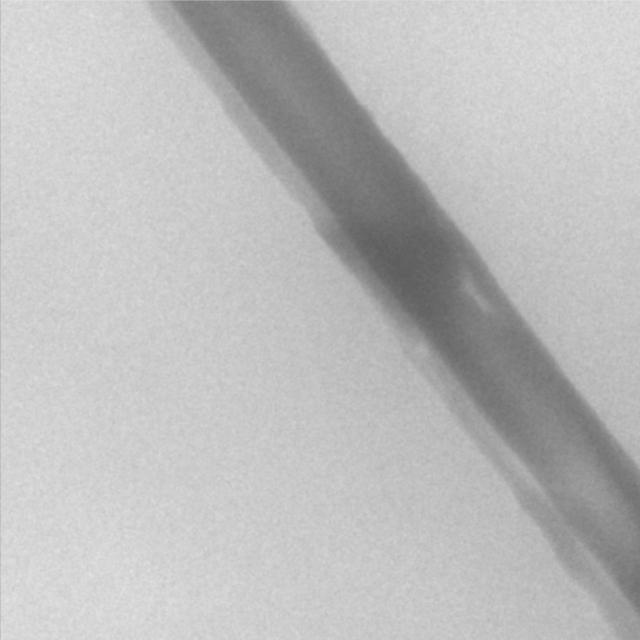unfused: (460, 271, 491, 311)
